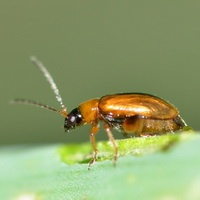insect: (13, 56, 186, 168)
